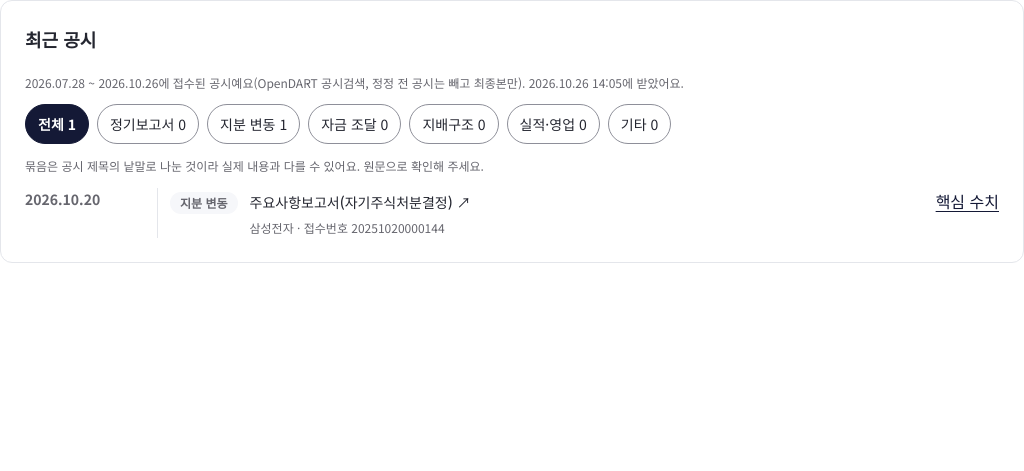
Test: 핵심 수치 › 불러오는 중과 실패를 보여 주고 다시 시도할 수 있다
Click the button "핵심 수치" at x=967, y=202, box [936,188,999,215]
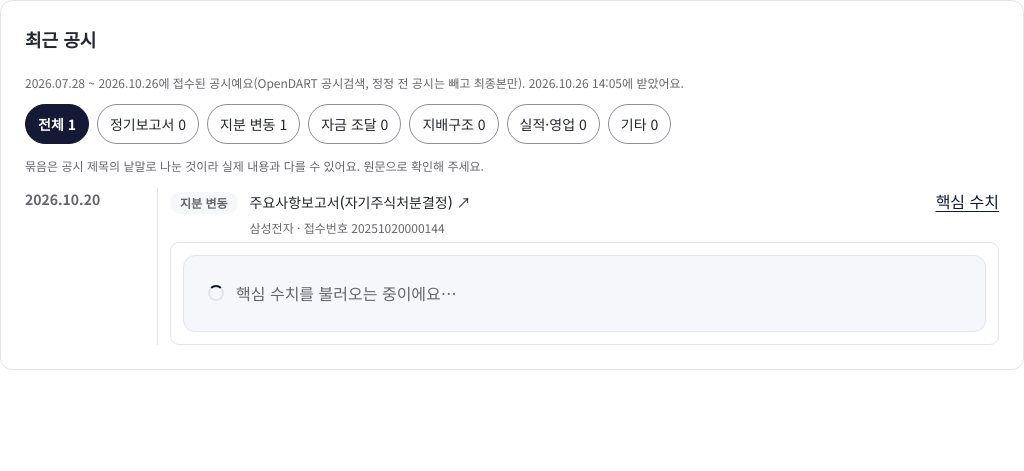
Check: the text "핵심 수치를 불러오는 중이에요…" is shown, box [183,255,986,332]
Click the button "핵심 수치" at x=967, y=202, box [936,188,999,215]
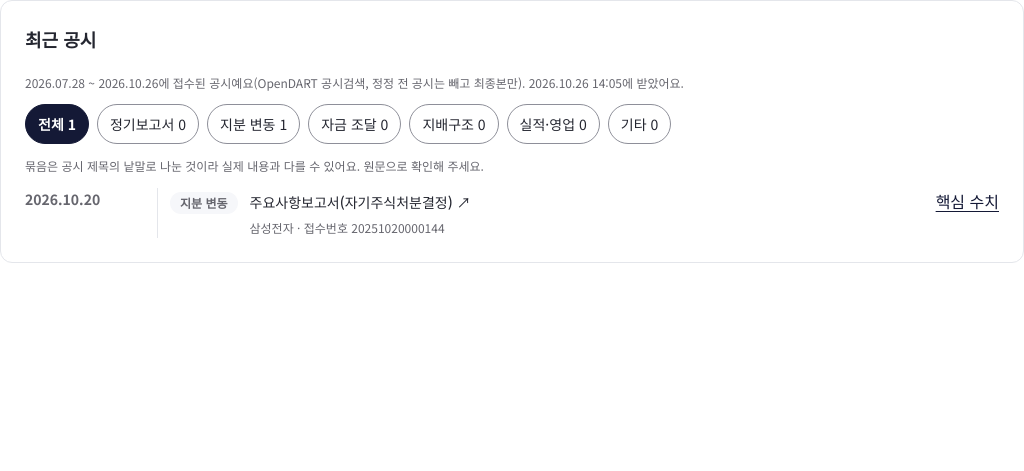
Click the button "핵심 수치" at x=967, y=202, box [936,188,999,215]
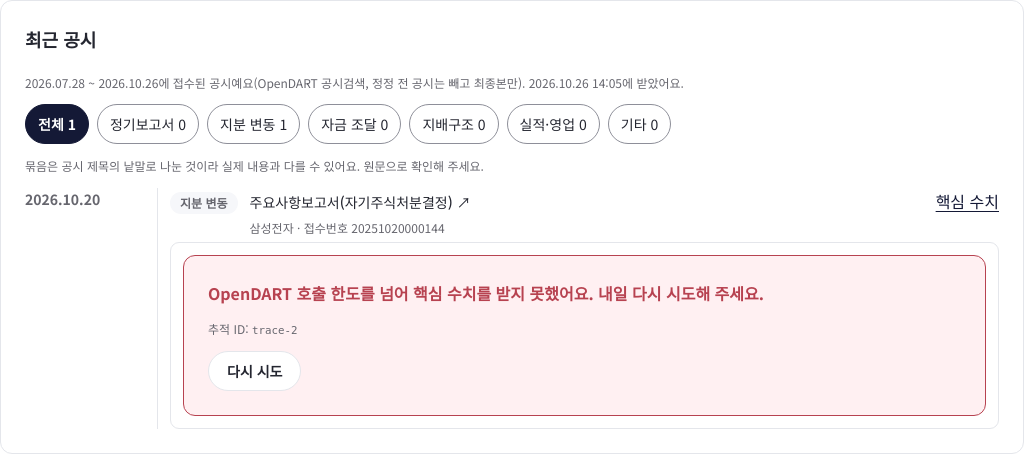
Check: the text "OpenDART 호출 한도를 넘어 핵심 수치를 받지 못했어요. 내일 다시 시도해 주세요." is shown, box [208,281,764,305]
Click the button "다시 시도" at x=255, y=371, box [208,351,302,391]
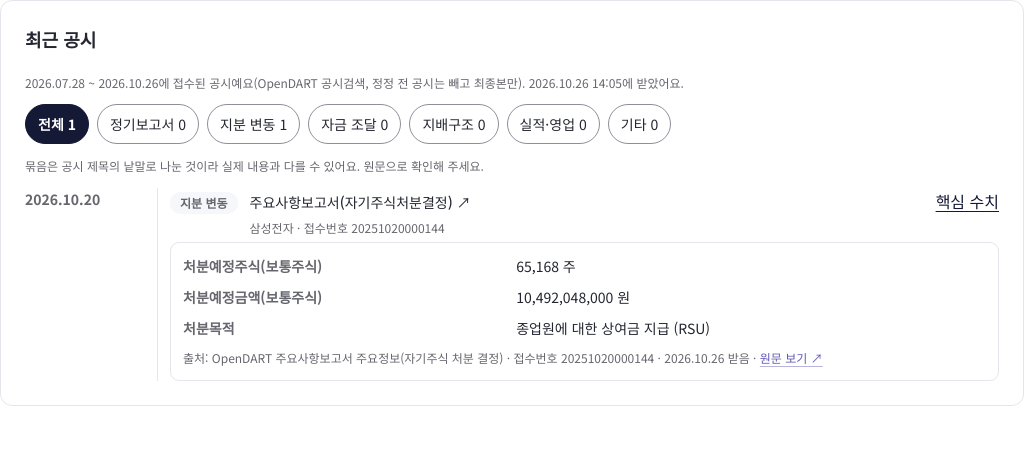
Check: the text "10,492,048,000 원" is shown, box [516,287,630,307]
